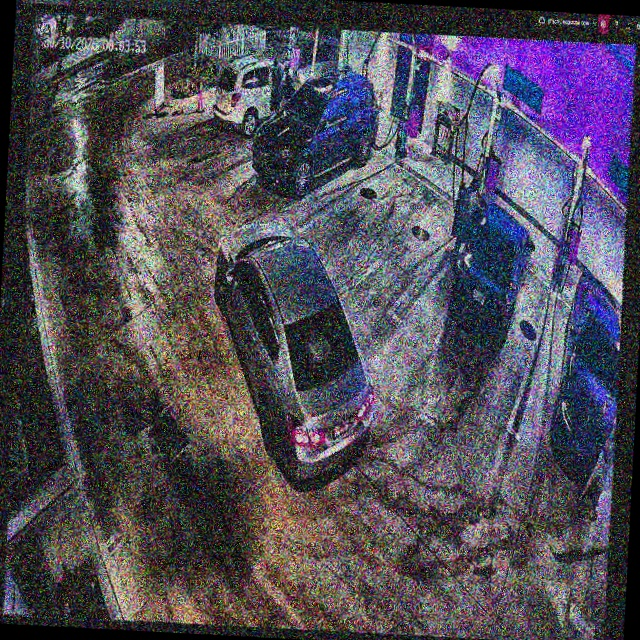Car: (204, 218, 381, 482), (252, 66, 381, 197), (453, 182, 537, 347)
